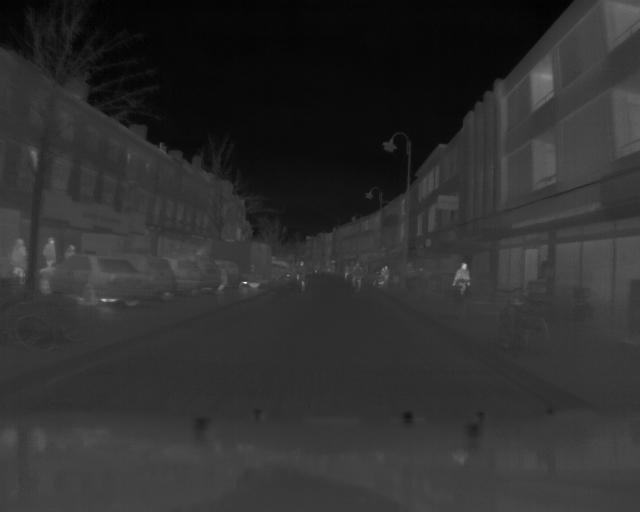car: (64, 257, 150, 307), (212, 238, 274, 291)
person: (11, 236, 27, 287), (453, 262, 473, 300), (42, 236, 56, 267), (351, 261, 362, 295), (295, 260, 305, 291)
